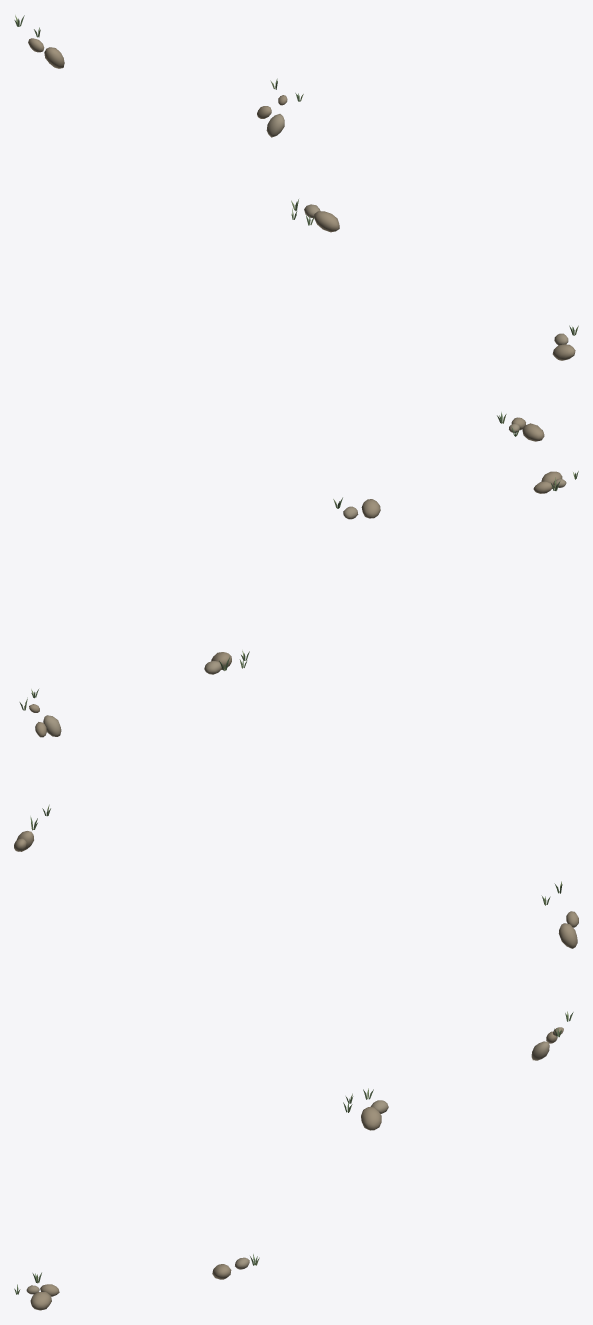
Rendered from riverbank_props_v005.glb.
The picture shows the model from 3 angles, top to bottom: view 1: azimuth 30°, elevation 25°; view 2: azimuth 150°, elevation 25°; view 3: azimuth 330°, elevation 25°; orthographic projection.
Visible parts, largest first — view 1: riverbank_props_v005; view 2: riverbank_props_v005; view 3: riverbank_props_v005.
Boxes of the visible parts, x1=… form: riverbank_props_v005: x1=14, y1=15, x2=578, y2=441; riverbank_props_v005: x1=14, y1=471, x2=578, y2=851; riverbank_props_v005: x1=14, y1=881, x2=578, y2=1310.
Size of the model in its own units: 4.66 by 1.33 by 25.35.
